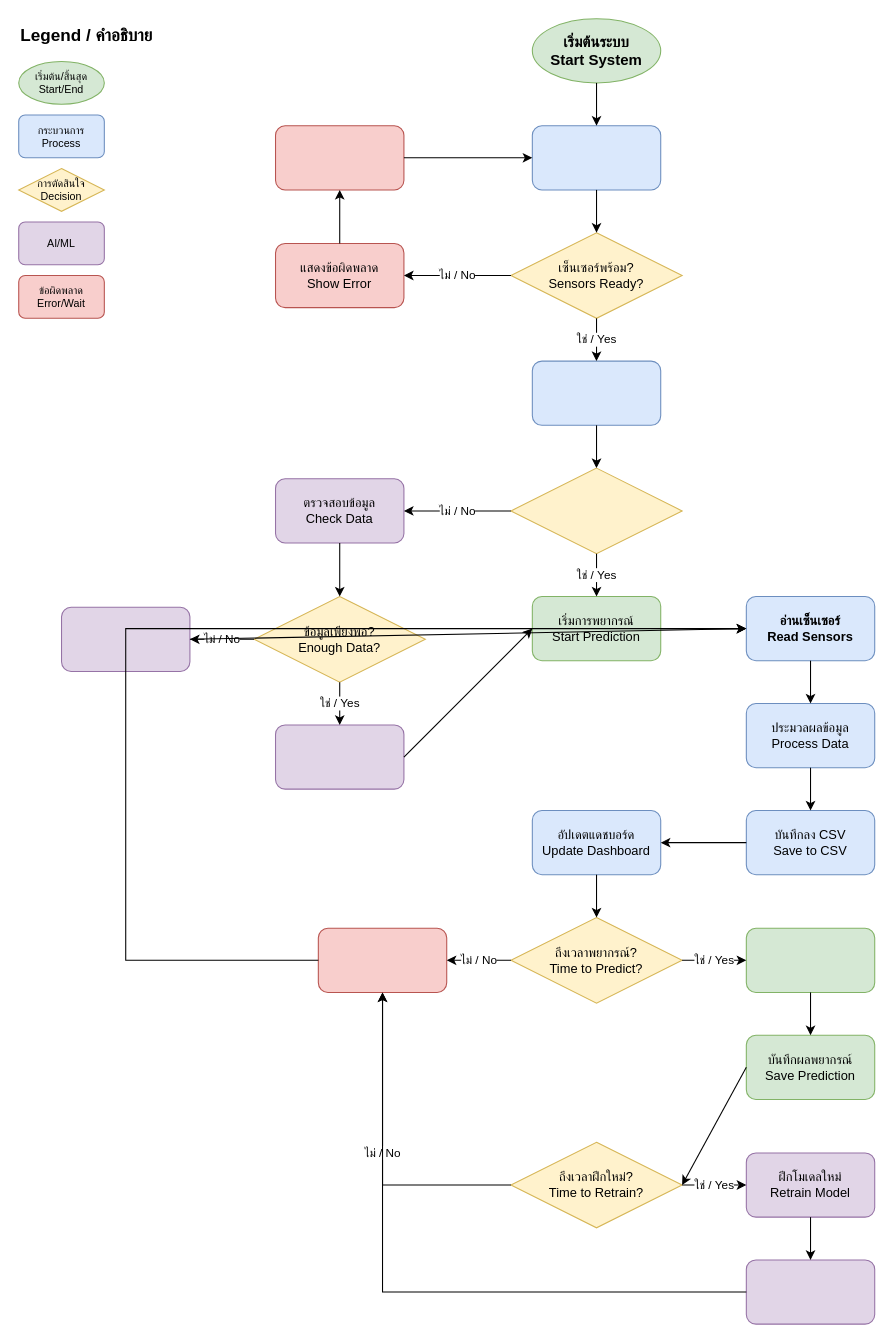
Some shapes in this 893 by 1343 pixel diagram are drawn without their labels. Each missing label, with the centre of its shape:
"ทำการพยากรณ์ Make Prediction" belongs at point (810, 959).
"ประเมินความแม่นยำ Evaluate Accuracy" belongs at point (810, 1291).
"ฝึกโมเดลใหม่ Train New Model" belongs at point (339, 756).
"มีโมเดลอยู่แล้ว? Model Exists?" belongs at point (596, 510).
"รอ 5 วินาที Wait 5 Seconds" belongs at point (382, 959).
"ลองเชื่อมต่อใหม่ Retry Connection" belongs at point (339, 157).
"เก็บข้อมูลเพิ่ม Collect More Data" belongs at point (125, 638).
"เชื่อมต่อเซ็นเซอร์ Connect Sensors" belongs at point (596, 157).
"โหลดโมเดล AI Load AI Model" belongs at point (596, 392).
